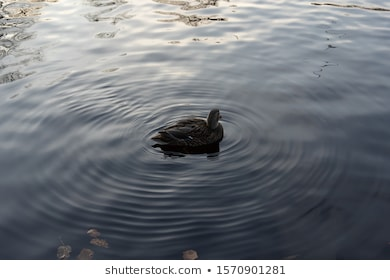duck: (143, 105, 235, 157)
